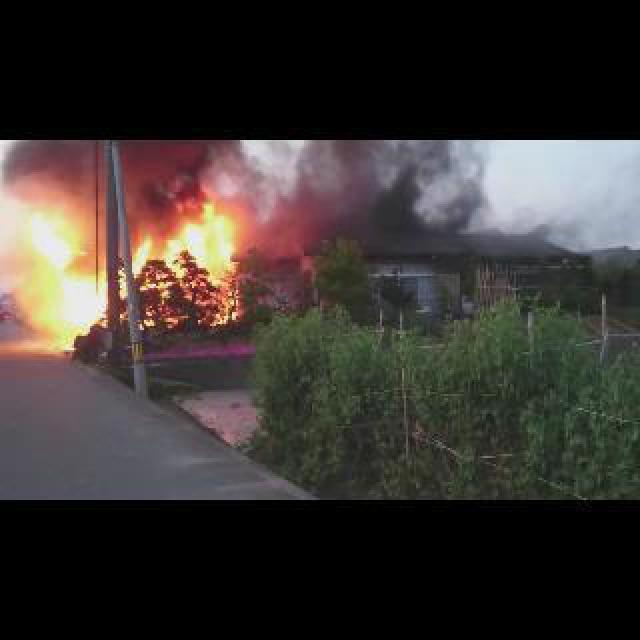Fire: (16, 204, 108, 352), (212, 290, 240, 326), (140, 308, 160, 330), (164, 314, 190, 328), (118, 270, 130, 300), (120, 306, 130, 322)
Smoke: (242, 140, 634, 260), (134, 204, 244, 298), (132, 140, 238, 210)
